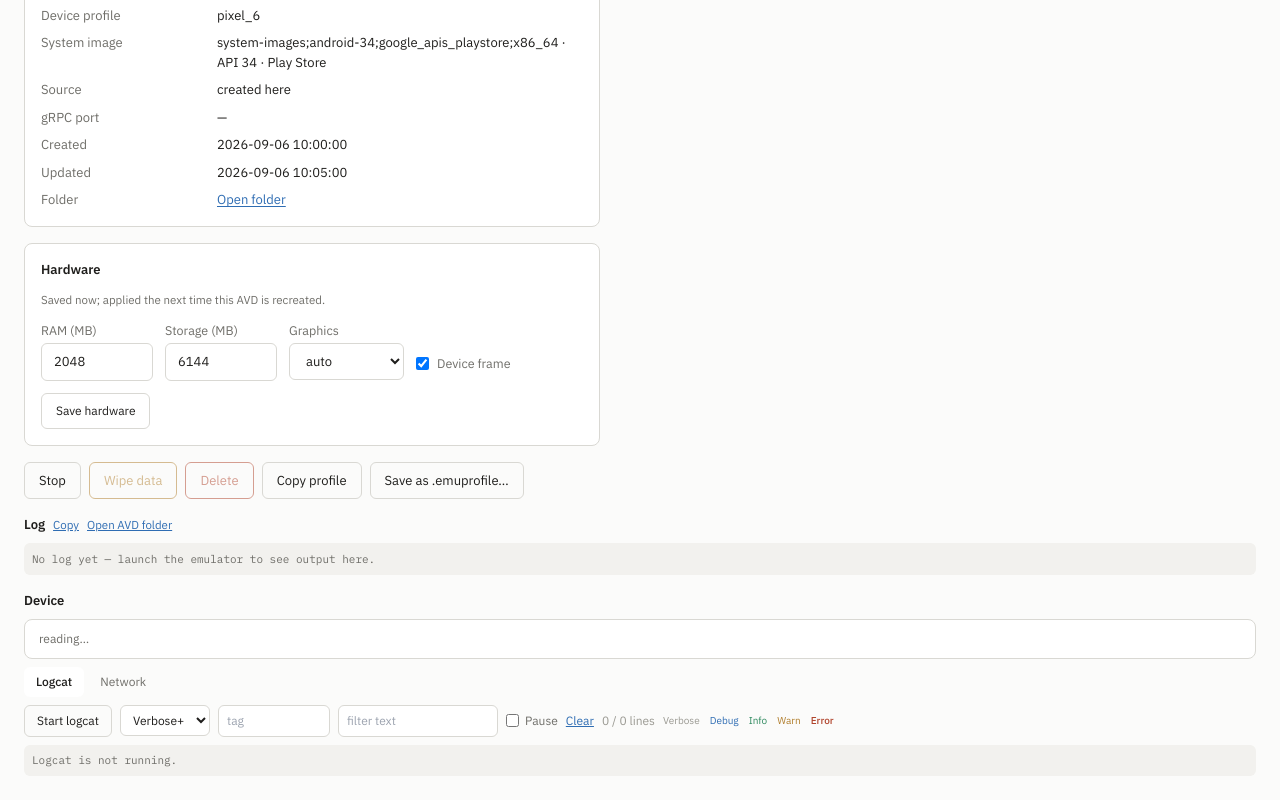
Test: EmulatorDetail › shows the network panel — interfaces and open sockets — on the Network tab
(page scrolled)
Click the button with test id "device-tab-network" at (123, 682), box [88,667,158,697]
(page scrolled)
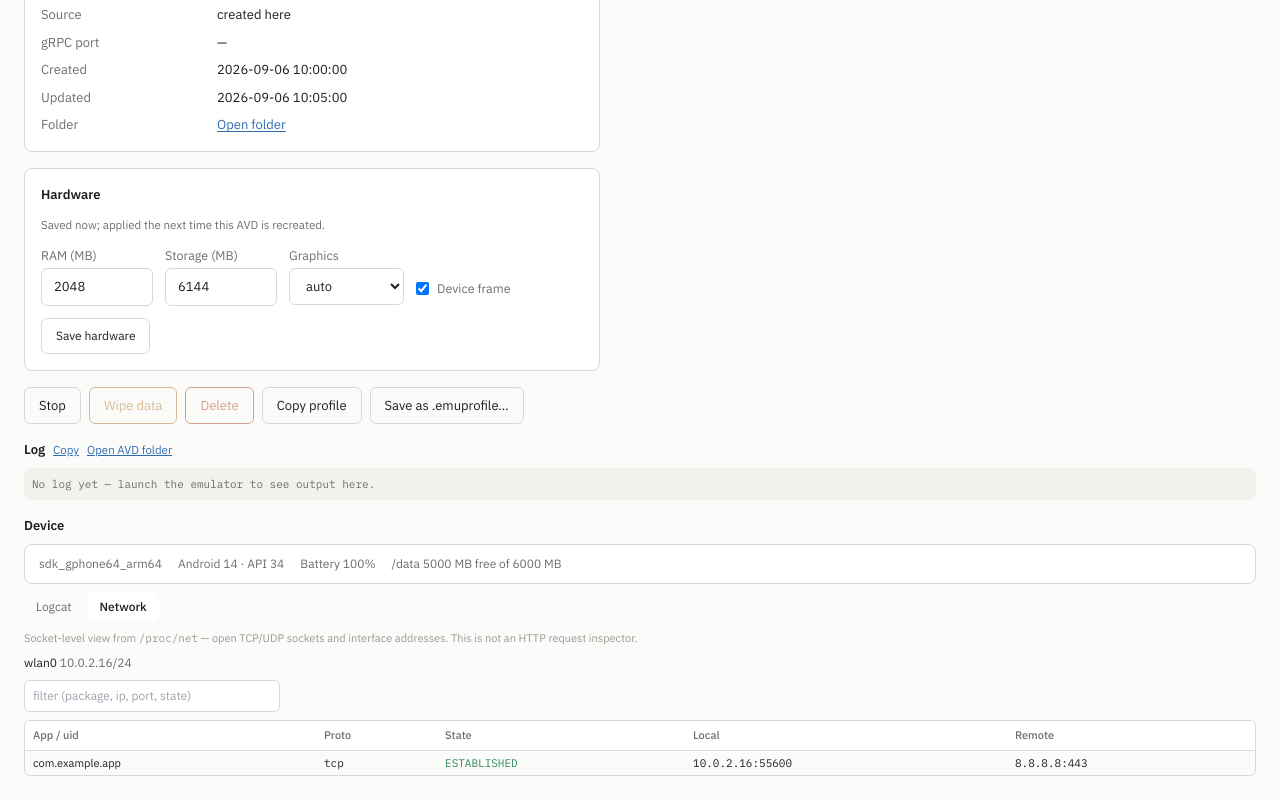
Now the element with test id "net-interfaces" shows "10.0.2.16/24", box [60,655,132,670]
Now the table with test id "net-connections" shows "com.example.app", box [33,756,121,770]
Now the table with test id "net-connections" shows "8.8.8.8:443", box [1015,756,1088,770]
